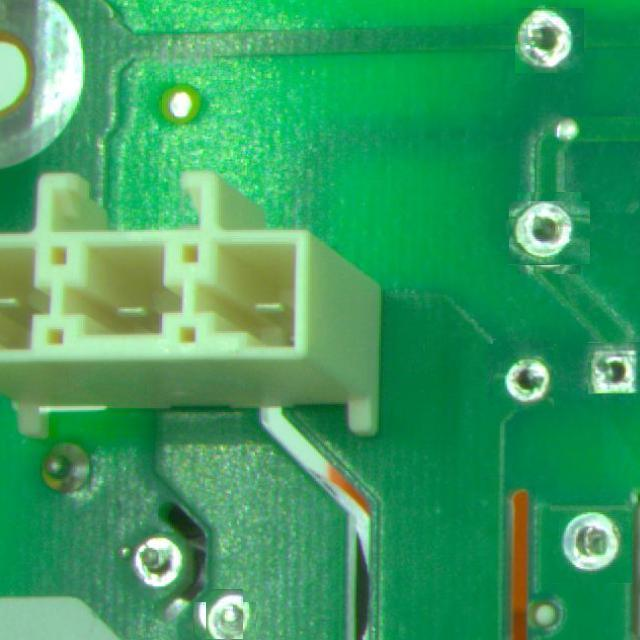lack_of_part: (551, 503, 632, 584), (513, 197, 586, 270), (516, 7, 583, 74), (490, 342, 556, 408), (128, 534, 190, 594), (588, 342, 640, 394), (199, 595, 249, 640)
